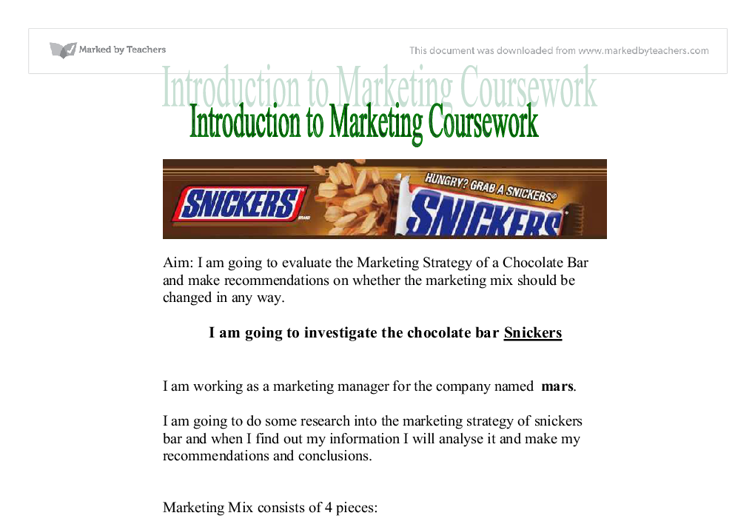snickers: (403, 188, 561, 237), (181, 190, 297, 216)
